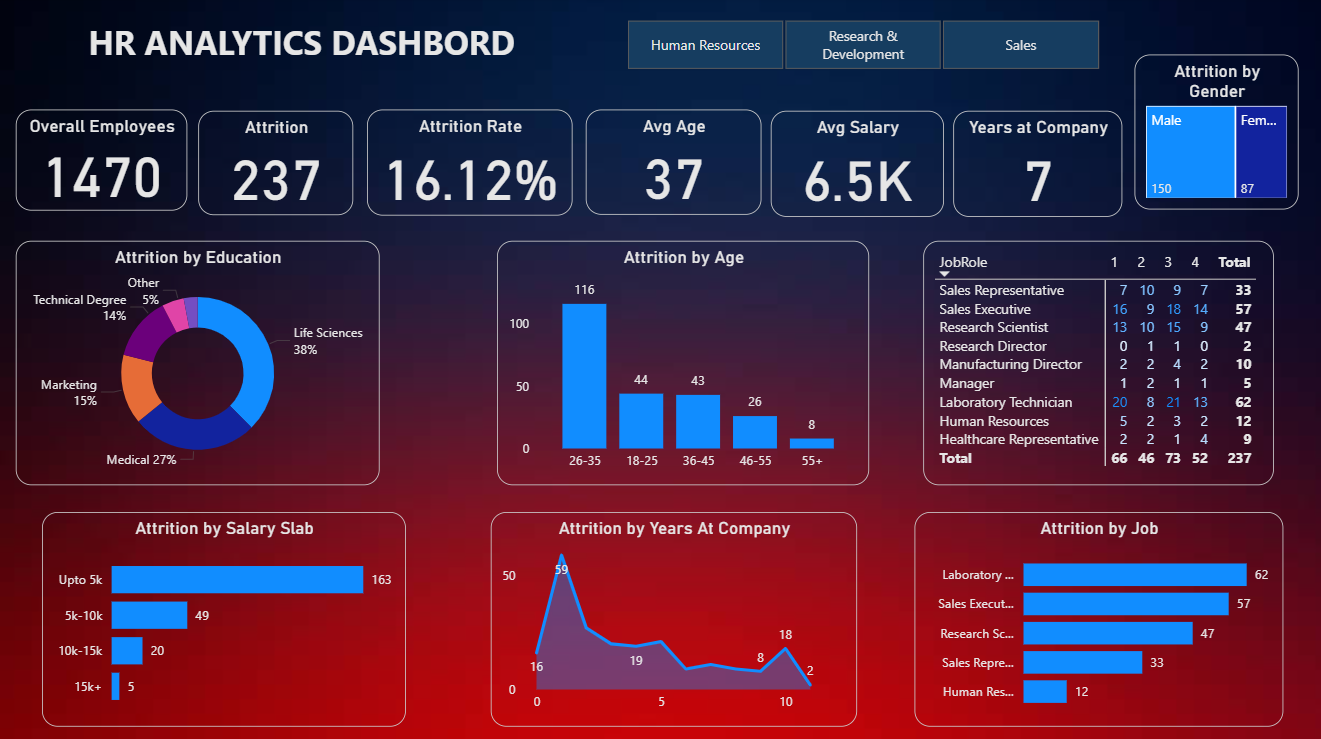

The dashboard page shown, as its layout file describes it:
{"tool":"powerbi","page":{"name":"Page 1","canvas":[1280,720],"ordinal":0},"visuals":[{"type":"card","title":"Overall Employees","fields":{"Values":["CountNonNull(HR_Analytics.EmpID)"]},"box":[18.3,108.4,165.7,97.4],"z":0},{"type":"card","title":"Attrition","fields":{"Values":["Sum(HR_Analytics.AttritionCount)"]},"box":[193.7,109.6,149.8,101.1],"z":1000},{"type":"card","title":"Attrition Rate","fields":{"Values":["HR_Analytics.Attrition_Rate"]},"box":[356.9,108.4,198.6,102.3],"z":2000},{"type":"card","title":"Avg Age","fields":{"Values":["Avg(HR_Analytics.Age)"]},"box":[568.4,108.7,169.6,101.5],"z":3000},{"type":"card","title":"Avg Salary","fields":{"Values":["Avg(HR_Analytics.MonthlyIncome)"]},"box":[746.7,109.6,166.9,102.3],"z":4000},{"type":"card","title":"Years at Company","fields":{"Values":["Avg(HR_Analytics.YearsAtCompany)"]},"box":[923.3,109.6,163.2,102.3],"z":5000},{"type":"donutChart","title":"Attrition by Education","fields":{"Y":["Sum(HR_Analytics.AttritionCount)"],"Category":["HR_Analytics.EducationField"]},"box":[18.3,235.1,350.8,236.3],"z":6000},{"type":"clusteredColumnChart","title":"Attrition by Age","fields":{"Category":["HR_Analytics.AgeGroup"],"Y":["Sum(HR_Analytics.AttritionCount)"]},"box":[482.4,235.1,359.3,236.3],"z":7000},{"type":"pivotTable","fields":{"Rows":["HR_Analytics.JobRole"],"Columns":["HR_Analytics.JobSatisfaction"],"Values":["Sum(HR_Analytics.AttritionCount)"]},"box":[894.1,235.1,338.6,236.3],"z":8000},{"type":"barChart","title":"Attrition by Salary Slab","fields":{"Y":["Sum(HR_Analytics.AttritionCount)"],"Category":["HR_Analytics.SalarySlab"]},"box":[43.9,497,350.8,207.1],"z":9000},{"type":"areaChart","title":"Attrition by Years At Company","fields":{"Y":["Sum(HR_Analytics.AttritionCount)"],"Category":["HR_Analytics.YearsAtCompany"]},"box":[476.3,497,353.3,207.1],"z":10000},{"type":"barChart","title":"Attrition by Job","fields":{"Y":["Sum(HR_Analytics.AttritionCount)"],"Category":["HR_Analytics.JobRole"]},"box":[885.6,497,355.7,207.1],"z":11000},{"type":"treemap","title":"Attrition by Gender","fields":{"Group":["HR_Analytics.Gender"],"Values":["Sum(HR_Analytics.AttritionCount)"]},"box":[1097.5,56,158.4,149.8],"z":12000},{"type":"slicer","fields":{"Values":["HR_Analytics.Department"]},"box":[582.9,15.9,504.6,60.9],"z":13000},{"type":"textbox","box":[82.6,17.4,472.7,56.5],"z":14000}]}

Visuals, with their boxes in screenshot pixels (x1, y1, x2, y2), scaled from the page's 1280x720 canvas onto the 1321x739 screenshot:
"Overall Employees" card: [x1=19, y1=111, x2=190, y2=211]
"Attrition" card: [x1=200, y1=112, x2=355, y2=216]
"Attrition Rate" card: [x1=368, y1=111, x2=573, y2=216]
"Avg Age" card: [x1=587, y1=112, x2=762, y2=216]
"Avg Salary" card: [x1=771, y1=112, x2=943, y2=217]
"Years at Company" card: [x1=953, y1=112, x2=1121, y2=217]
"Attrition by Education" donutChart: [x1=19, y1=241, x2=381, y2=484]
"Attrition by Age" clusteredColumnChart: [x1=498, y1=241, x2=869, y2=484]
pivotTable - HR_Analytics.JobRole x HR_Analytics.JobSatisfaction: [x1=923, y1=241, x2=1272, y2=484]
"Attrition by Salary Slab" barChart: [x1=45, y1=510, x2=407, y2=723]
"Attrition by Years At Company" areaChart: [x1=492, y1=510, x2=856, y2=723]
"Attrition by Job" barChart: [x1=914, y1=510, x2=1281, y2=723]
"Attrition by Gender" treemap: [x1=1133, y1=57, x2=1296, y2=211]
slicer - HR_Analytics.Department: [x1=602, y1=16, x2=1122, y2=79]
textbox: [x1=85, y1=18, x2=573, y2=76]
